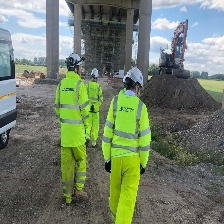helmet: (124, 63, 145, 88), (66, 50, 86, 71)
person: (105, 63, 153, 224), (53, 51, 91, 208)
vest: (108, 92, 150, 165), (57, 73, 90, 147)
